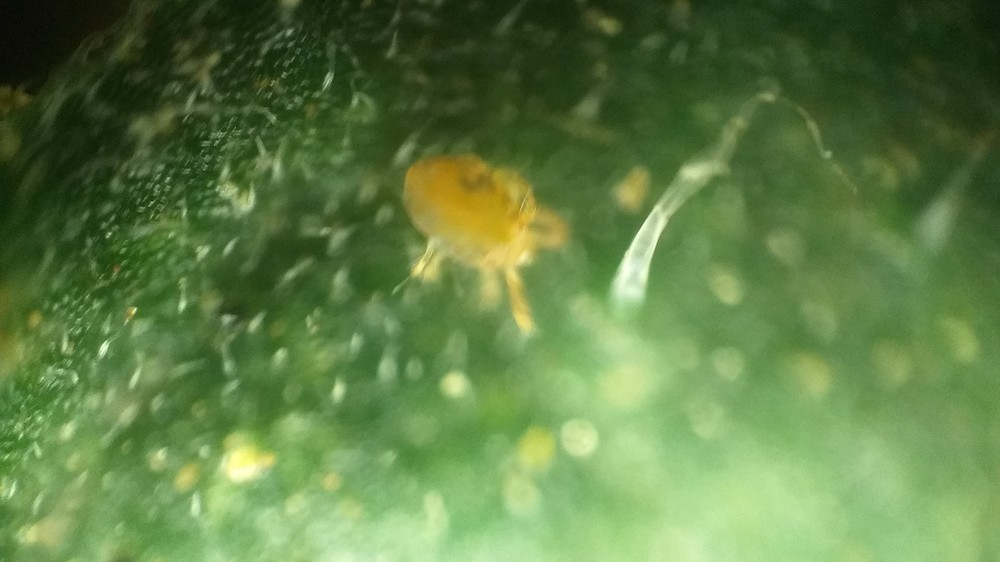Aracnido Rojo: (355, 133, 598, 366)
